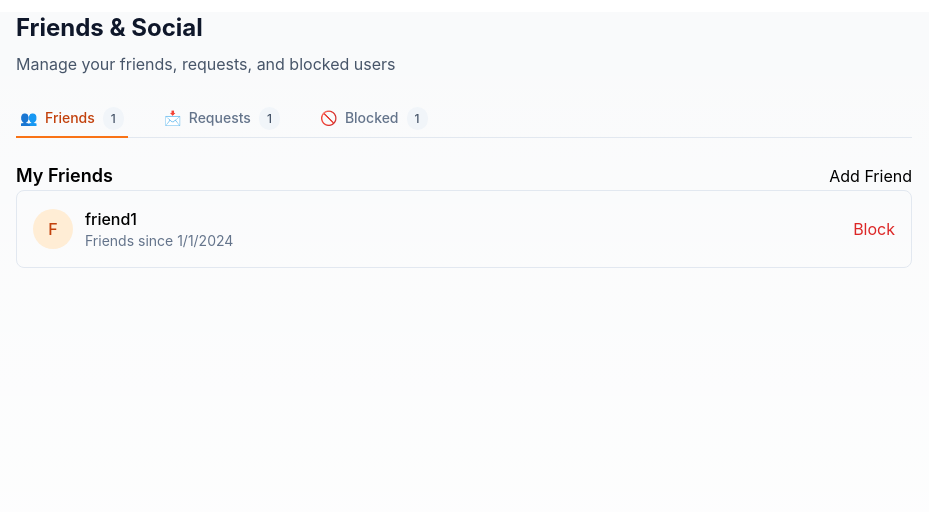
FriendsAndSocial › handles API errors gracefully
The image size is (929, 512).
Note: Try to send request
Click the button "Add Friend": (871, 176) x1=829 y1=164 x2=912 y2=188
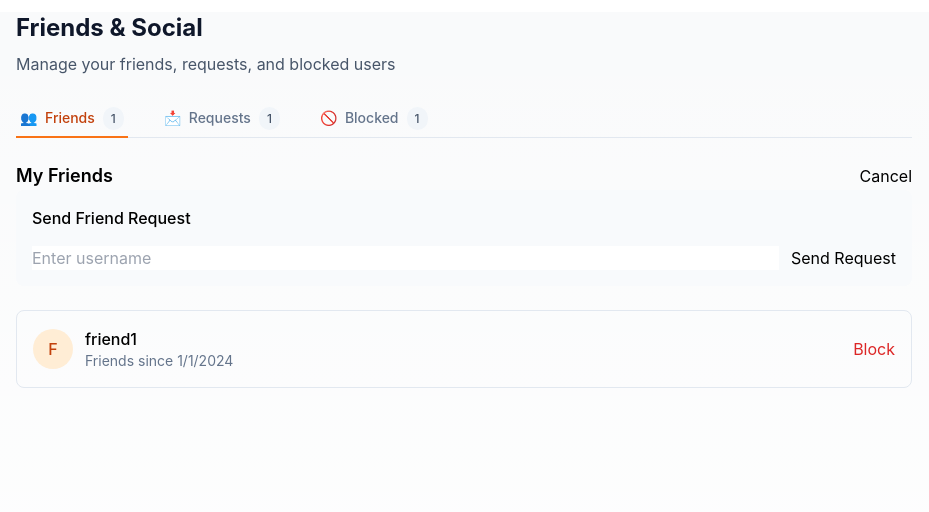
In the field with placeholder "Enter username": (406, 258) x1=32 y1=246 x2=779 y2=270, type "newFriend"
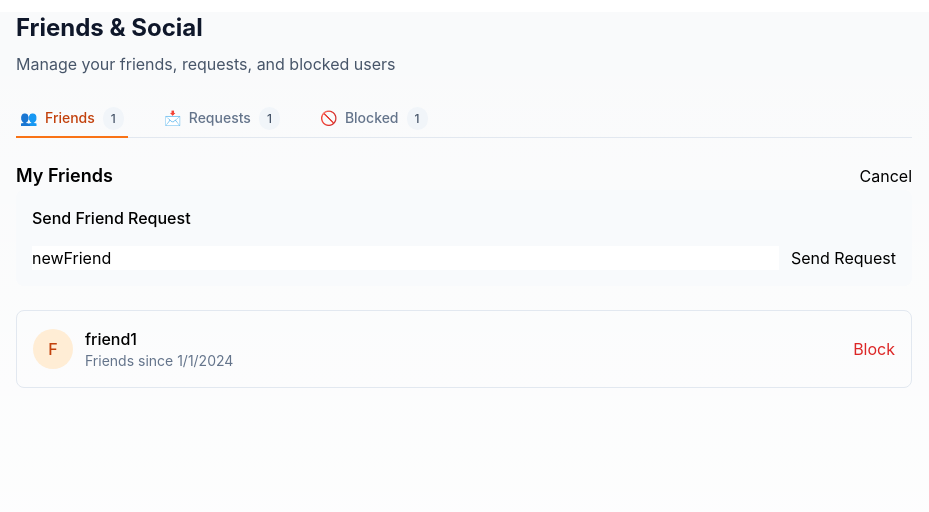
Click the button "Send Request": (844, 258) x1=791 y1=246 x2=896 y2=270
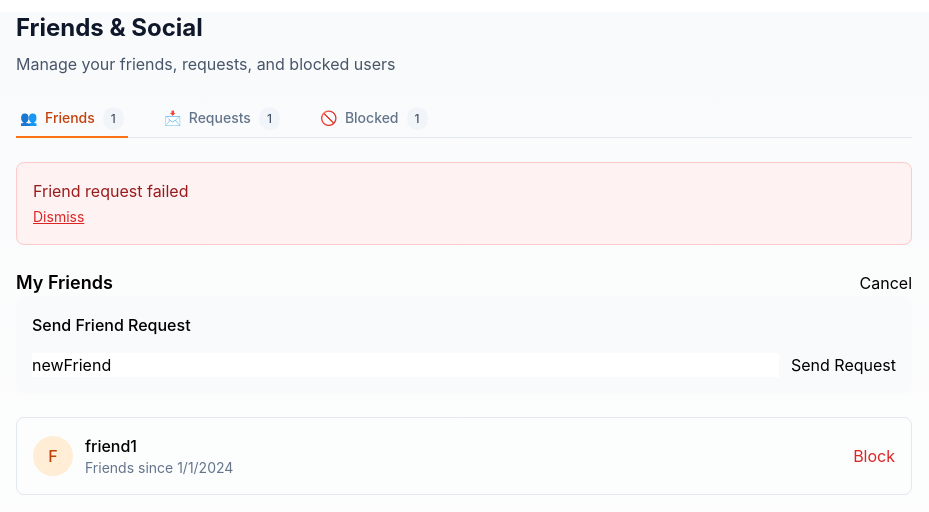
expect the text "Friend request failed" is shown: met, box x1=33 y1=181 x2=188 y2=201
